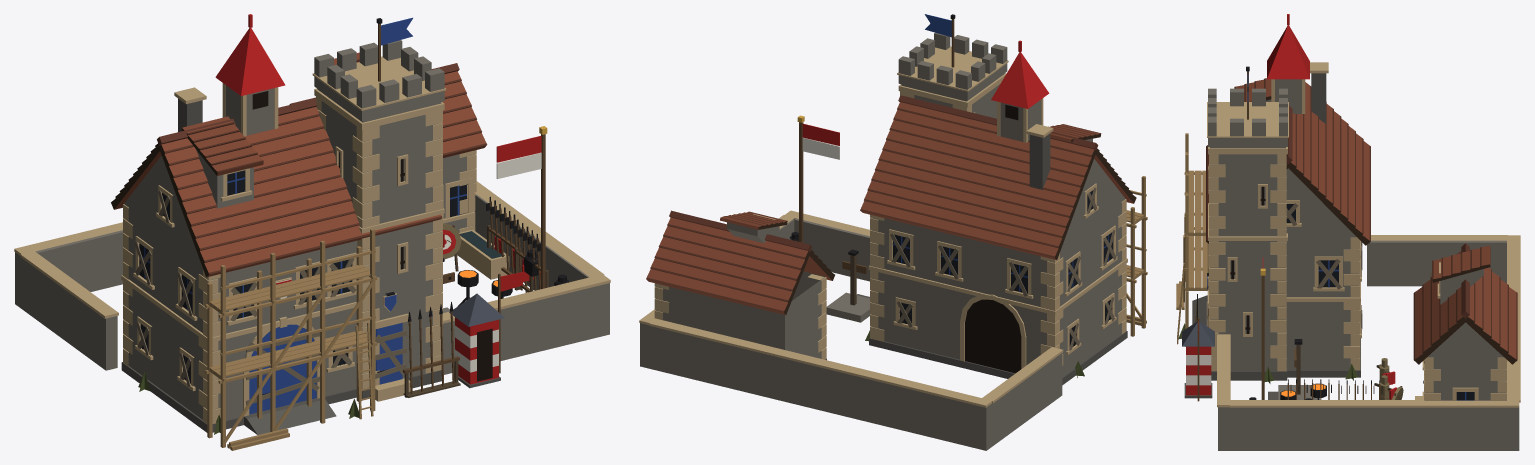
The model's file is gardist.glb.
3 renders of one model, left to right at view 1: azimuth 30°, elevation 25°; view 2: azimuth 150°, elevation 25°; view 3: azimuth 270°, elevation 25°, orthographic. The views are drawn at different scales.
Parts seen in each view (by area): view 1: Haus, Stufe1, Geruest, Stufe3, Stufe2, Leerstand, Fahne; view 2: Haus, Stufe1, Stufe3, Leerstand, Geruest, Stufe2, Fahne; view 3: Haus, Stufe1, Stufe3, Geruest, Stufe2, Leerstand.
Boxes of the visible parts, bbox=[...] form: Haus: bbox=[111, 40, 522, 434]; Stufe1: bbox=[14, 181, 610, 374]; Geruest: bbox=[205, 228, 377, 450]; Stufe3: bbox=[215, 14, 547, 306]; Stufe2: bbox=[181, 116, 568, 292]; Leerstand: bbox=[134, 190, 406, 434]; Fahne: bbox=[376, 17, 412, 81]; Haus: bbox=[860, 32, 1136, 385]; Stufe1: bbox=[639, 210, 1063, 450]; Stufe3: bbox=[646, 40, 1049, 360]; Leerstand: bbox=[865, 187, 1116, 377]; Geruest: bbox=[1126, 176, 1147, 336]; Stufe2: bbox=[789, 124, 1101, 241]; Fahne: bbox=[924, 14, 955, 67]; Haus: bbox=[1182, 62, 1370, 401]; Stufe1: bbox=[1217, 235, 1520, 450]; Stufe3: bbox=[1260, 14, 1517, 400]; Geruest: bbox=[1176, 133, 1208, 346]; Stufe2: bbox=[1234, 78, 1397, 399]; Leerstand: bbox=[1178, 203, 1362, 383].
Bounding box in the file's own units: 15.93 × 13.39 × 13.58.
